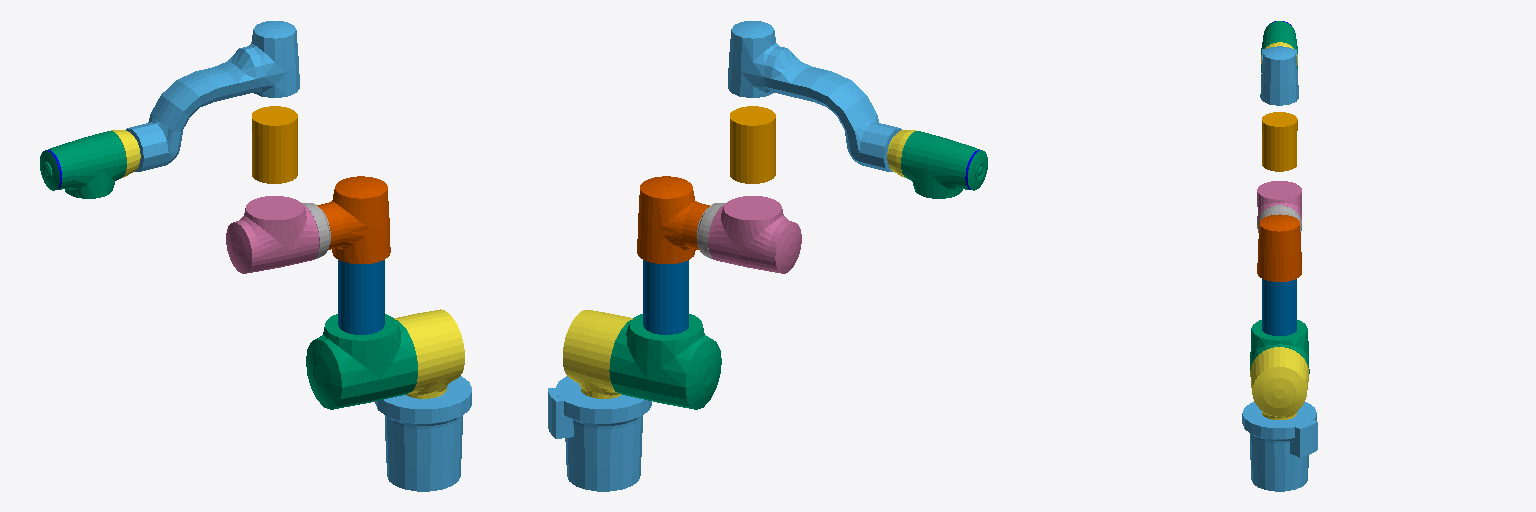
URDF robot description (autogen-robot):
<?xml version="1.0" encoding="utf-8"?>
<robot name="autogen-robot">
	<link name="world"/>
	<joint name="world" type="fixed">
		<parent link="world"/>
		<child link="joint_wrist_b"/>
	</joint>
	<link name="joint_base">
		<visual>
			<origin xyz="0 0 0" rpy="0 0 0"/>
			<geometry>
				<mesh filename="package://inovo_description/meshes/prd/J1.dae"/>
			</geometry>
		</visual>
		<collision name="joint_base">
			<origin xyz="0 0 0.09" rpy="0 0 0"/>
			<geometry>
				<cylinder radius="0.08" length="0.18"/>
			</geometry>
		</collision>
		<inertial>
			<origin xyz="0.0 0.0 0.0873" rpy="0 0 0"/>
			<mass value="4.696"/>
			<inertia ixx="0.0162" iyy="0.0162" izz="0.0138" ixy="-0.00037" ixz="-0.000216" iyz="0.00031"/>
		</inertial>
	</link>
	<joint name="joint" type="continuous">
		<axis xyz="0 0 1"/>
		<parent link="joint_base"/>
		<child link="flange"/>
		<origin xyz="0 0 0.26022" rpy="0 0 0"/>
		<dynamics friction="0.0" damping="0.0"/>
		<limit effort="3.0" velocity="1.8"/>
	</joint>
	<link name="joint_shoulder">
		<visual>
			<origin xyz="0 0 0" rpy="0 0 0"/>
			<geometry>
				<mesh filename="package://inovo_description/meshes/prd/J2.dae"/>
			</geometry>
		</visual>
		<collision name="joint_shoulder">
			<origin xyz="-0.005 0 0" rpy="0 1.57079632679 0"/>
			<geometry>
				<cylinder radius="0.08" length="0.17"/>
			</geometry>
		</collision>
		<inertial>
			<origin xyz="0.01745 0.0 -0.03032" rpy="0 0 0"/>
			<mass value="5.24"/>
			<inertia ixx="0.01699" ixy="0.0" ixz="-0.0005" iyy="0.01758" iyz="0.0" izz="0.01251"/>
		</inertial>
	</link>
	<joint name="joint" type="continuous">
		<axis xyz="0 0 1"/>
		<parent link="joint_shoulder"/>
		<child link="joint_shoulder_output"/>
		<origin xyz="0.1335 0 0" rpy="0 4.7123889804 3.14159265359"/>
		<dynamics friction="0.0" damping="0.0"/>
		<limit effort="4.0" velocity="1.8"/>
	</joint>
	<link name="joint_shoulder_output">
		<visual>
			<origin xyz="0 0 0" rpy="0 4.71238 3.1415"/>
			<geometry>
				<mesh filename="package://inovo_description/meshes/prd/J2_1.dae"/>
			</geometry>
		</visual>
		<collision name="joint_shoulder_output">
			<origin xyz="0 0 0.002" rpy="0 0 0"/>
			<geometry>
				<cylinder radius="0.08" length="0.11"/>
			</geometry>
		</collision>
		<inertial>
			<origin xyz="0.00803 0.0 -0.0271" rpy="0 0 0"/>
			<mass value="2.243"/>
			<inertia ixx="0.00579" iyy="0.00653" izz="0.00604" ixy="0.0" ixz="0.000577" iyz="0.0"/>
		</inertial>
	</link>
	<joint name="joint_shoulder_output_joint" type="fixed">
		<parent link="joint_shoulder_output"/>
		<child link="joint_base"/>
		<origin xyz="0.07975 0.0 0.0" rpy="3.14159265359 -1.57079632679 0"/>
	</joint>
	<link name="joint_prdlink2">
		<visual>
			<geometry>
				<mesh filename="package://inovo_description/meshes/prd/TUBE_300.dae"/>
			</geometry>
		</visual>
		<collision>
			<origin xyz="0 0 0.165" rpy="0 0 0"/>
			<geometry>
				<cylinder radius="0.05" length="0.33"/>
			</geometry>
		</collision>
		<inertial>
			<origin xyz="0.0 0.0 0.12513" rpy="0 0 0"/>
			<mass value="1.084"/>
			<inertia ixx="0.0151" iyy="0.0151" izz="0.00137" ixy="0.0" ixz="0.0" iyz="0.0005"/>
		</inertial>
	</link>
	<joint name="joint_prdlink2_coupling" type="fixed">
		<parent link="joint_prdlink2"/>
		<child link="joint_shoulder"/>
		<origin xyz="0 0 0.3004" rpy="0 0 0"/>
	</joint>
	<link name="joint_elbow">
		<visual>
			<origin xyz="0 0 0.09025" rpy="3.14 3.14 3.14"/>
			<geometry>
				<mesh filename="package://inovo_description/meshes/prd/J3.dae"/>
			</geometry>
		</visual>
		<collision name="joint_elbow">
			<origin xyz="0 0 0.09" rpy="0 1.57 0"/>
			<geometry>
				<cylinder radius="0.06" length="0.14"/>
			</geometry>
		</collision>
		<inertial>
			<origin xyz="-0.01456 0.0 0.0112" rpy="0 0 0"/>
			<mass value="2.58"/>
			<inertia ixx="0.00555" ixy="0.0" ixz="-0.00039" iyy="0.0066" iyz="0.0" izz="0.00459"/>
		</inertial>
	</link>
	<joint name="joint" type="continuous">
		<axis xyz="0 0 1"/>
		<parent link="joint_elbow"/>
		<child link="joint_prdlink2"/>
		<origin xyz="0 0 0.09025" rpy="0 -1.57079632679 0"/>
		<dynamics friction="0.0" damping="0.0"/>
		<limit effort="10.0" velocity="2.5"/>
	</joint>
	<link name="joint_elbow_output">
		<visual>
			<origin xyz="0 0 0.1335" rpy="0 1.57 0"/>
			<geometry>
				<mesh filename="package://inovo_description/meshes/prd/J4.dae"/>
			</geometry>
		</visual>
		<collision name="joint_elbow_output">
			<origin xyz="-0.013 0 0.13" rpy="0 1.57 0"/>
			<geometry>
				<cylinder radius="0.06" length="0.15"/>
			</geometry>
		</collision>
		<inertial>
			<origin xyz="0.0 0.0 0.1109" rpy="0 0 0"/>
			<mass value="2.582"/>
			<inertia ixx="0.00464" ixy="0.0" ixz="-0.00" iyy="0.00631" iyz="0.0" izz="0.00523"/>
		</inertial>
	</link>
	<joint name="joint" type="continuous">
		<axis xyz="0 0 1"/>
		<parent link="joint_elbow_output"/>
		<child link="joint_forearm"/>
		<origin xyz="0 0 0.1335" rpy="0 -1.57079632679 3.141592653590"/>
		<dynamics friction="0.0" damping="0.0"/>
		<limit effort="10.0" velocity="2.6"/>
	</joint>
	<link name="joint_forearm">
		<visual>
			<origin xyz="0 0 0.0647" rpy="0 0 0"/>
			<geometry>
				<mesh filename="package://inovo_description/meshes/prd/J4_1.dae"/>
			</geometry>
		</visual>
		<collision name="joint_forearm">
			<origin xyz="0 0 0.08" rpy="0 0 0"/>
			<geometry>
				<cylinder radius="0.06" length="0.025"/>
			</geometry>
		</collision>
		<inertial>
			<origin xyz="0.0 0.0 0.05836" rpy="0 0 0"/>
			<mass value="0.686"/>
			<inertia ixx="0.000858" ixy="0.0" ixz="0.0" iyy="0.000856" iyz="0.0" izz="0.000725"/>
		</inertial>
	</link>
	<joint name="joint_forearm_coupling" type="fixed">
		<parent link="joint_forearm"/>
		<child link="joint_elbow"/>
		<origin xyz="0 0 0.09477" rpy="0 0 3.141592653590"/>
	</joint>
	<link name="joint_prdlink1">
		<visual>
			<geometry>
				<mesh filename="package://inovo_description/meshes/prd/TUBE_120.dae"/>
			</geometry>
		</visual>
		<collision>
			<origin xyz="0 0 0.05" rpy="0 0 0"/>
			<geometry>
				<cylinder radius="0.06" length="0.14"/>
			</geometry>
		</collision>
		<inertial>
			<origin xyz="0.0 0.0 0.04948" rpy="0 0 0"/>
			<mass value="0.834"/>
			<inertia ixx="0.0021" ixy="0.0" ixz="0.0" iyy="0.00204" iyz="0.0" izz="0.00095"/>
		</inertial>
	</link>
	<joint name="joint_prdlink1_coupling" type="fixed">
		<parent link="joint_prdlink1"/>
		<child link="joint_elbow_output"/>
		<origin xyz="0 0 0.1196" rpy="0 0 0"/>
	</joint>
	<link name="joint_jlink">
		<visual>
			<origin xyz="0 0 0.30523" rpy="0 0 0"/>
			<geometry>
				<mesh filename="package://inovo_description/meshes/prd/J5.dae"/>
			</geometry>
		</visual>
		<collision>
			<origin xyz="0 0 0.30523" rpy="0 0 0"/>
			<geometry>
				<mesh filename="package://inovo_description/meshes/prd/J5_collision.stl"/>
			</geometry>
		</collision>
		<inertial>
			<origin xyz="0.07445 0.0 0.21491" rpy="0 0 0"/>
			<mass value="2.187"/>
			<inertia ixx="0.035951" ixy="0.0" ixz="0.0116" iyy="0.0407" iyz="0.0" izz="0.00685"/>
		</inertial>
	</link>
	<joint name="joint" type="continuous">
		<axis xyz="0 0 1"/>
		<parent link="joint_jlink"/>
		<child link="joint_prdlink1"/>
		<origin xyz="0 0 0.30523" rpy="0 -1.5707963267908 0"/>
		<dynamics friction="0.0" damping="0.0"/>
		<limit effort="20.0" velocity="3.3"/>
	</joint>
	<link name="joint_wrist_b">
		<visual>
			<origin xyz="0 0 0" rpy="0 1.5707 0"/>
			<geometry>
				<mesh filename="package://inovo_description/meshes/prd/J6.dae"/>
			</geometry>
		</visual>
		<collision name="joint_wrist_b">
			<origin xyz="-0.02 0 0.0" rpy="0 1.57 0"/>
			<geometry>
				<cylinder radius="0.045" length="0.14"/>
			</geometry>
		</collision>
		<inertial>
			<origin xyz="0.01238 0.0 0.00431" rpy="0 0 0"/>
			<mass value="1.933"/>
			<inertia ixx="0.0029" ixy="0.0" ixz="-0.000431" iyy="0.00357" iyz="0.0" izz="0.00235"/>
		</inertial>
	</link>
	<joint name="joint" type="continuous">
		<axis xyz="0 0 1"/>
		<parent link="joint_wrist_b"/>
		<child link="joint_prd1192"/>
		<origin xyz="0 0 0.0" rpy="0 -1.5707963267908 3.141592653590"/>
		<dynamics friction="0.0" damping="0.0"/>
		<limit effort="25.0" velocity="3.3"/>
	</joint>
	<link name="joint_prd1192">
		<visual>
			<origin xyz="0 0 0.0556" rpy="0 1.57 0"/>
			<geometry>
				<mesh filename="package://inovo_description/meshes/prd/J6_1.dae"/>
			</geometry>
		</visual>
		<collision name="joint_prd1192">
			<origin xyz="0 0 0.075" rpy="0 0 0"/>
			<geometry>
				<cylinder radius="0.045" length="0.035"/>
			</geometry>
		</collision>
		<inertial>
			<origin xyz="-0.00145 0.0 0.06063" rpy="0 0 0"/>
			<mass value="0.38"/>
			<inertia ixx="0.000397" ixy="0.0" ixz="0.0" iyy="0.000417" iyz="0.0" izz="0.000244"/>
		</inertial>
	</link>
	<joint name="joint_prd1190_fixed" type="fixed">
		<parent link="joint_prd1192"/>
		<child link="joint_jlink"/>
		<origin xyz="0 0 0.0926" rpy="0 0 0"/>
	</joint>
	<link name="flange"/>
</robot>

--- What the picture shows (computed from the rendered views, not written in the file) ---
3 views of the same robot in one strip: view 1: azimuth 30°, elevation 25°; view 2: azimuth 150°, elevation 25°; view 3: azimuth 270°, elevation 25° (orthographic).
Model autogen-robot with 13 links and 12 joints (6 continuous, 6 fixed), rooted at world, posed every joint at zero.
Visible links, largest first — view 1: joint_jlink, joint_shoulder, joint_base, joint_elbow_output, joint_elbow, joint_wrist_b, joint_shoulder_output, joint_prdlink1, joint_prdlink2, joint_forearm, joint_prd1192; view 2: joint_jlink, joint_base, joint_shoulder, joint_elbow_output, joint_elbow, joint_wrist_b, joint_shoulder_output, joint_prdlink1, joint_prdlink2, joint_forearm, joint_prd1192; view 3: joint_base, joint_shoulder_output, joint_elbow, joint_jlink, joint_prdlink1, joint_prdlink2, joint_shoulder, joint_elbow_output, joint_wrist_b.
Boxes of the visible links, left/top/right/bottom form: joint_jlink: left=126, top=21, right=299, bottom=171; joint_shoulder: left=306, top=314, right=417, bottom=409; joint_base: left=375, top=376, right=471, bottom=491; joint_elbow_output: left=226, top=196, right=319, bottom=273; joint_elbow: left=317, top=176, right=390, bottom=263; joint_wrist_b: left=40, top=131, right=126, bottom=198; joint_shoulder_output: left=394, top=309, right=464, bottom=398; joint_prdlink1: left=252, top=106, right=297, bottom=183; joint_prdlink2: left=338, top=260, right=384, bottom=334; joint_forearm: left=302, top=203, right=330, bottom=259; joint_prd1192: left=111, top=130, right=140, bottom=177; joint_jlink: left=728, top=21, right=901, bottom=171; joint_base: left=548, top=376, right=651, bottom=491; joint_shoulder: left=609, top=314, right=721, bottom=409; joint_elbow_output: left=708, top=196, right=801, bottom=273; joint_elbow: left=637, top=176, right=709, bottom=263; joint_wrist_b: left=901, top=131, right=987, bottom=198; joint_shoulder_output: left=563, top=310, right=632, bottom=398; joint_prdlink1: left=730, top=106, right=775, bottom=183; joint_prdlink2: left=643, top=260, right=688, bottom=334; joint_forearm: left=697, top=203, right=725, bottom=259; joint_prd1192: left=887, top=130, right=915, bottom=177; joint_base: left=1242, top=402, right=1317, bottom=491; joint_shoulder_output: left=1250, top=347, right=1308, bottom=419; joint_elbow: left=1257, top=214, right=1301, bottom=281; joint_jlink: left=1260, top=46, right=1298, bottom=105; joint_prdlink1: left=1262, top=112, right=1297, bottom=171; joint_prdlink2: left=1262, top=279, right=1296, bottom=335; joint_shoulder: left=1250, top=320, right=1309, bottom=373; joint_elbow_output: left=1257, top=181, right=1301, bottom=222; joint_wrist_b: left=1261, top=21, right=1297, bottom=72.
Size in the robot's own frame: 0.8988 by 0.1815 by 0.9918 metres.
Meshes: 11 distinct files referenced, 11 mesh visuals loaded (11 Collada DAE).